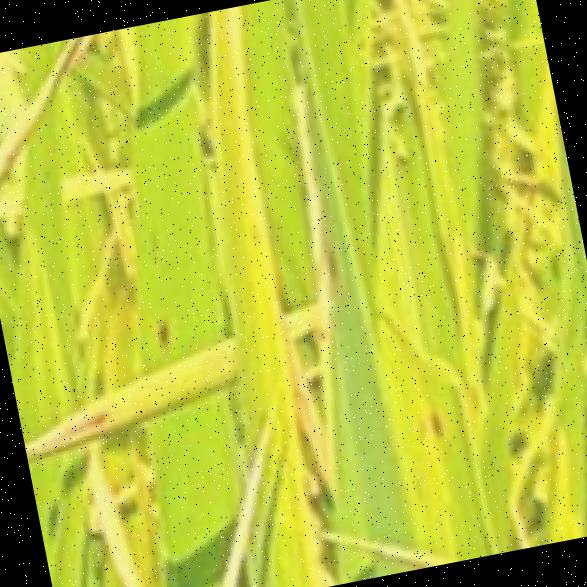Bacteria_Leaf_Blight: (189, 12, 322, 530)
